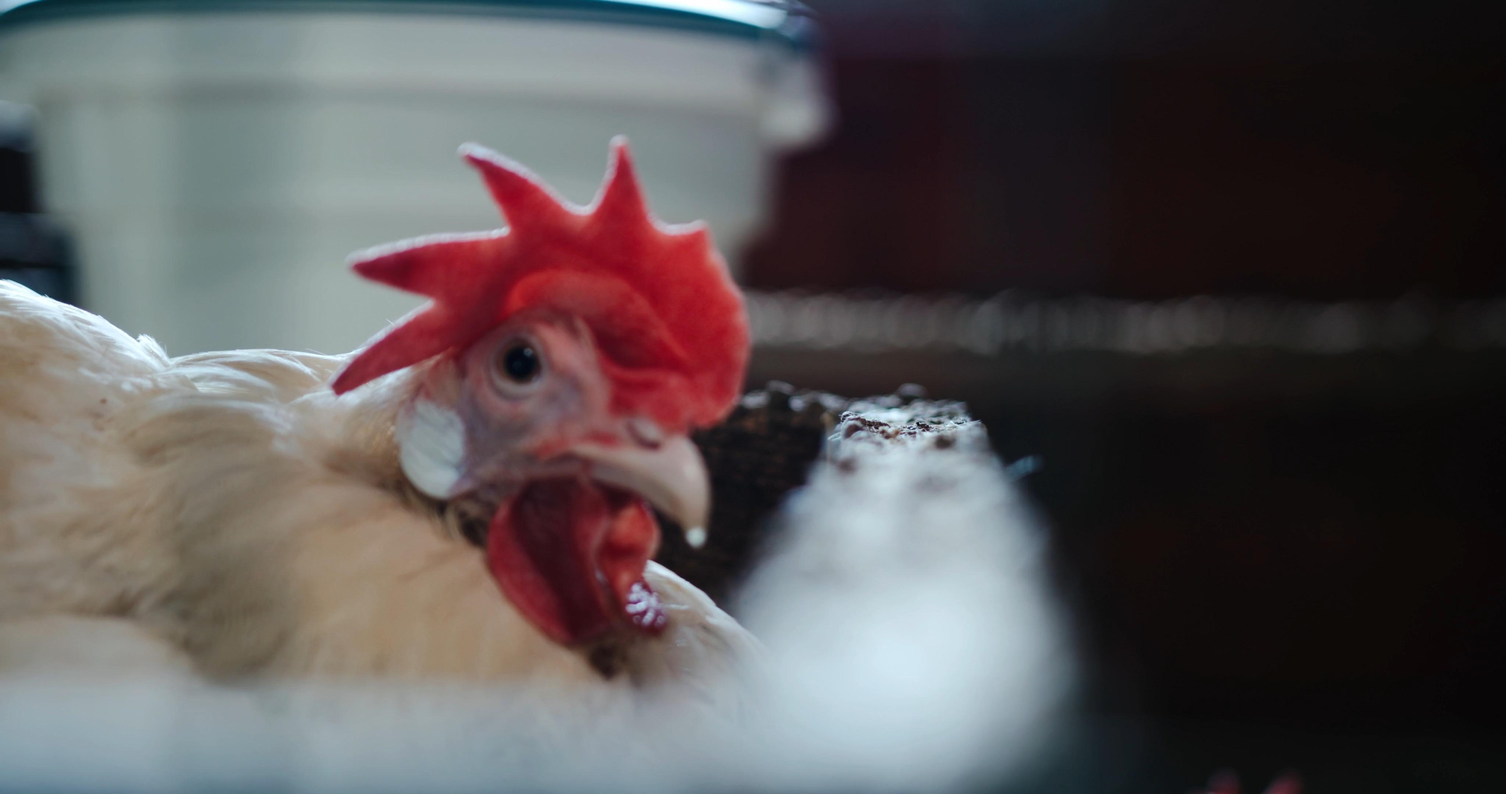Normal: (30, 135, 756, 666)
